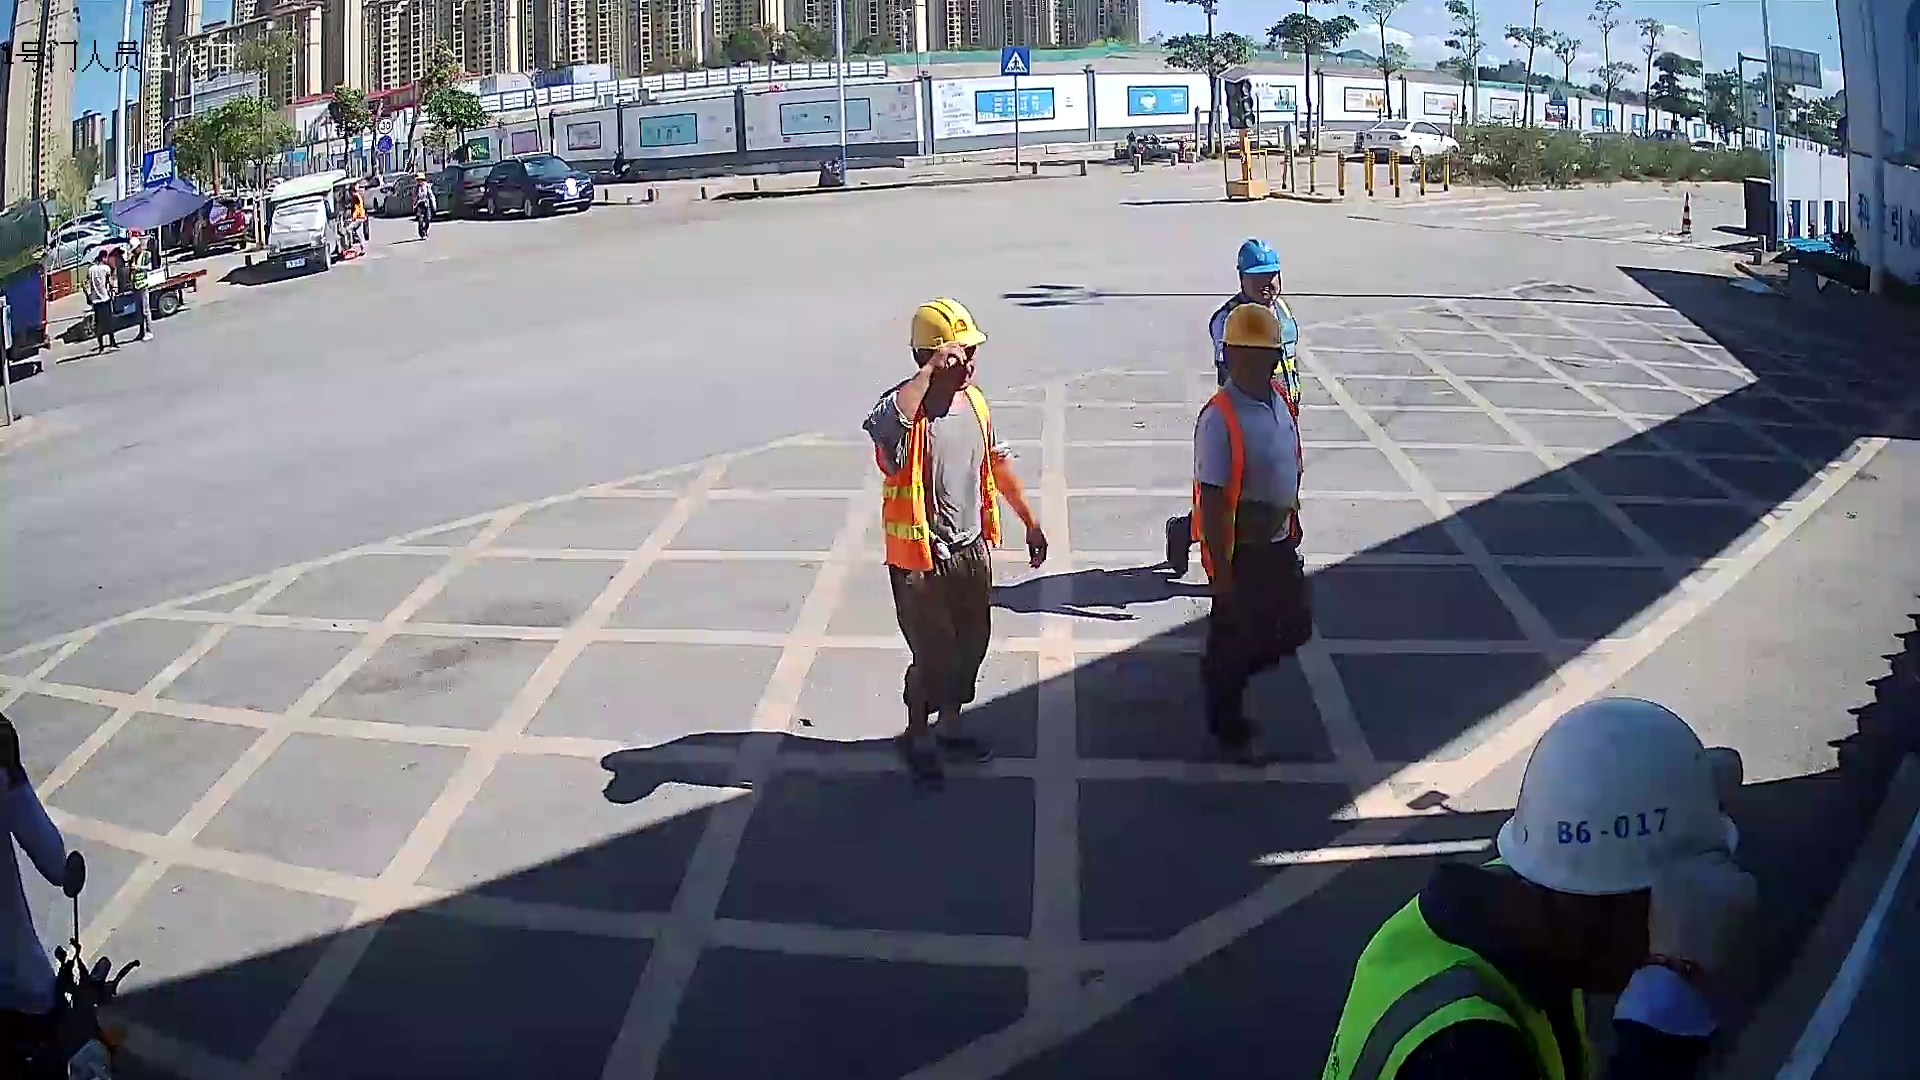ordinary_clothes: (879, 385, 997, 564), (1188, 393, 1306, 541)
person: (861, 290, 1051, 793), (1184, 303, 1314, 781)
reflective_vest: (1315, 856, 1591, 1079)
safety_helmet: (1487, 693, 1743, 983), (908, 291, 983, 391), (1215, 300, 1286, 394), (1235, 235, 1284, 307)
